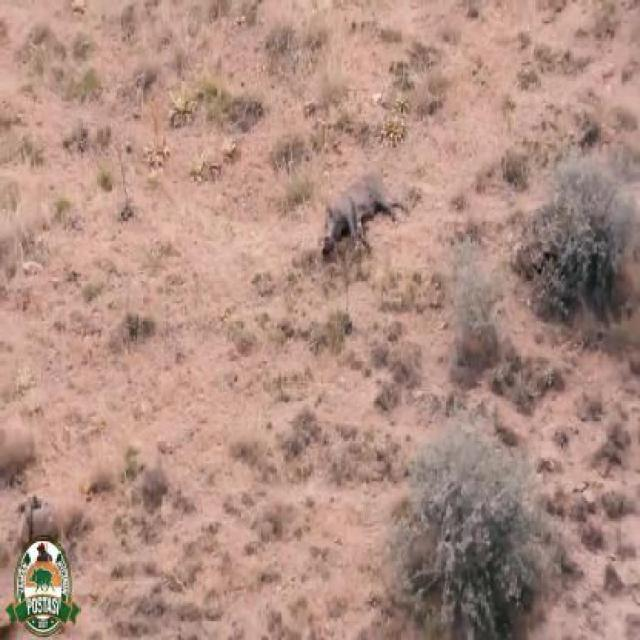pig: (315, 149, 420, 251)
